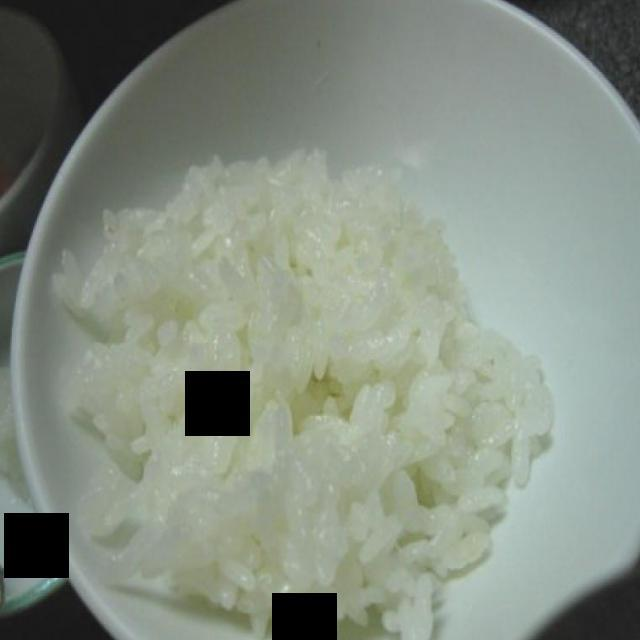rice: (50, 147, 555, 640)
